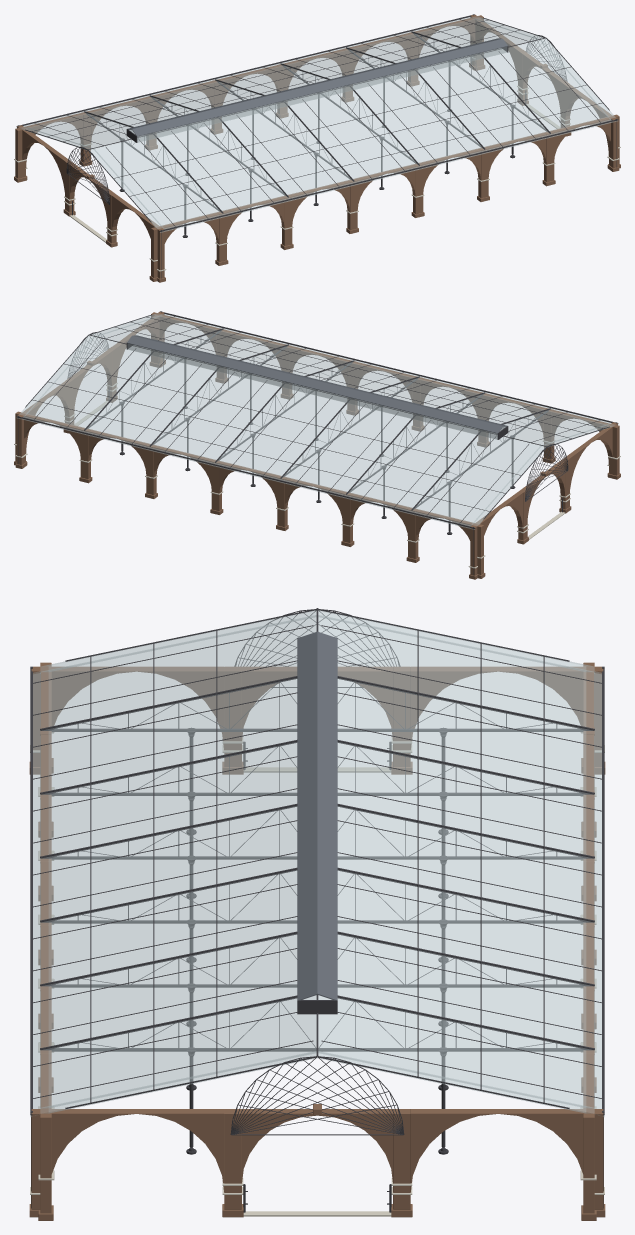
Rendered from market.glb.
The picture shows the model from 3 angles, top to bottom: view 1: azimuth 30°, elevation 25°; view 2: azimuth 150°, elevation 25°; view 3: azimuth 270°, elevation 25°; orthographic projection. The views are drawn at different scales.
Parts seen in each view (by area): view 1: market; view 2: market; view 3: market.
Boxes of the visible parts, box(x1,y1,x2,y2) form: market: box(14, 14, 620, 282); market: box(14, 311, 620, 579); market: box(29, 608, 605, 1220).
Bounding box in the file's own units: 85.7 × 15.8 × 45.7.
